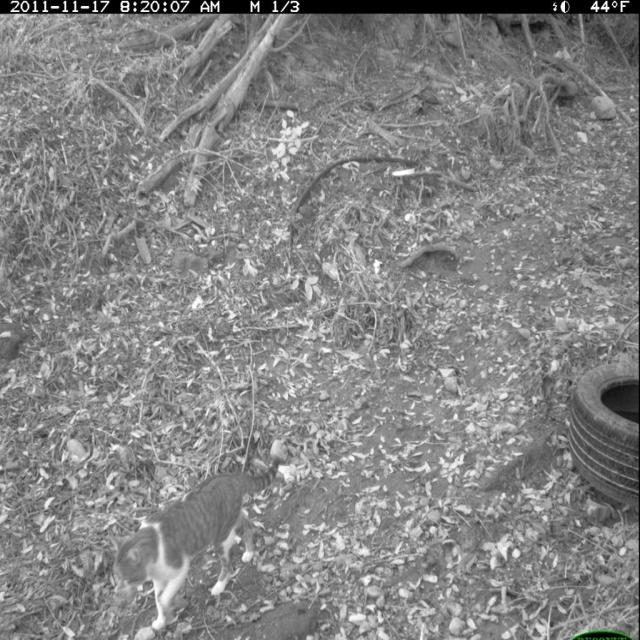cat: (116, 444, 282, 637)
